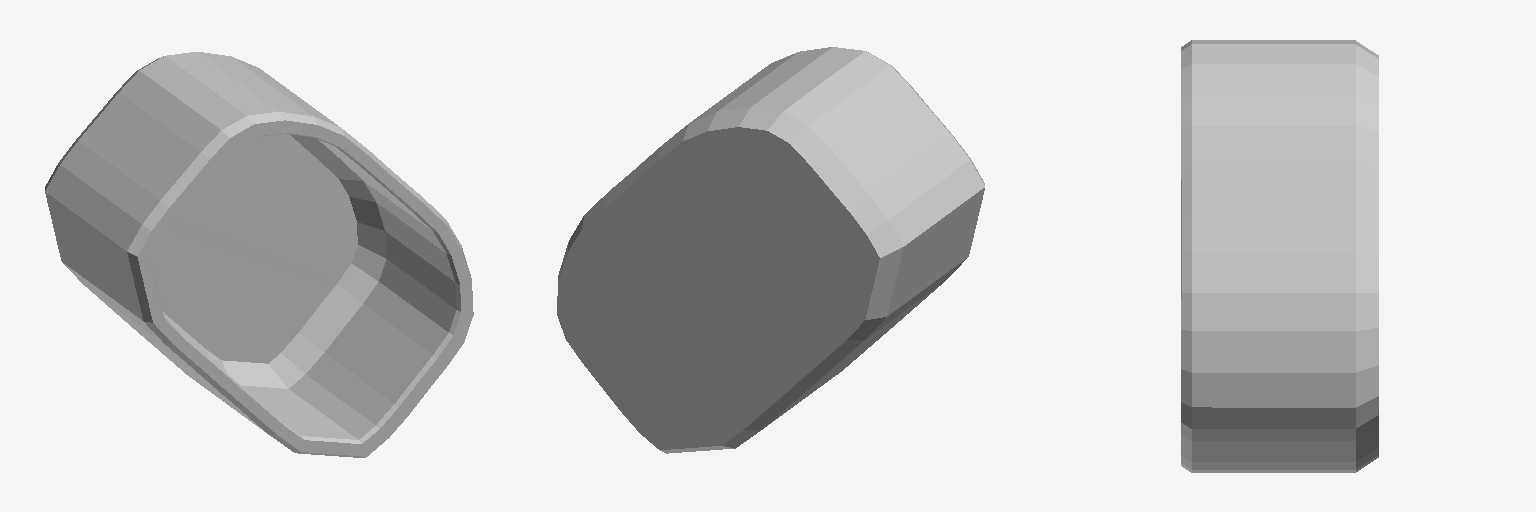
File: basket_full.obj
3 views of the same model, side by side, from view 1: azimuth 30°, elevation 25°; view 2: azimuth 150°, elevation 25°; view 3: azimuth 270°, elevation 25° (orthographic).
Parts seen in each view (by area): view 1: basket.009; view 2: basket.009; view 3: basket.009.
Part boxes in pixels (bbox=[...]): basket.009: bbox=[45, 52, 473, 457]; basket.009: bbox=[557, 47, 984, 453]; basket.009: bbox=[1181, 40, 1378, 472].
Size of the model in its own units: 0.3257 by 0.3333 by 0.1606.